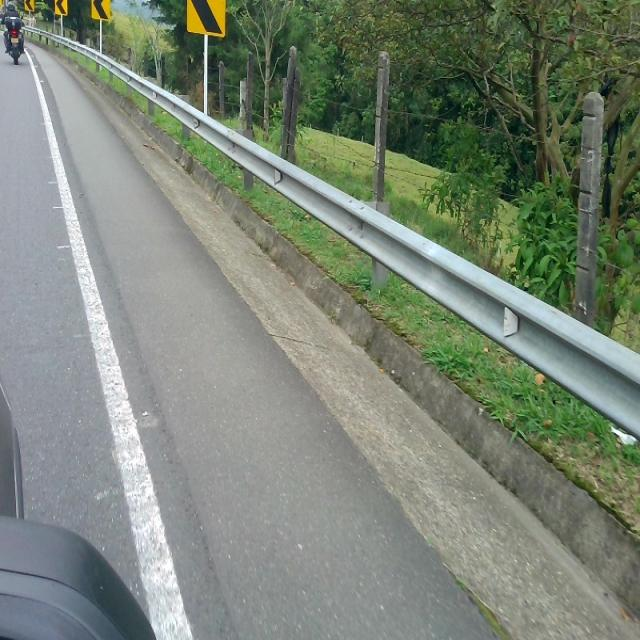DITCH: (2, 1, 638, 638), (12, 32, 638, 638), (1, 102, 639, 638)
